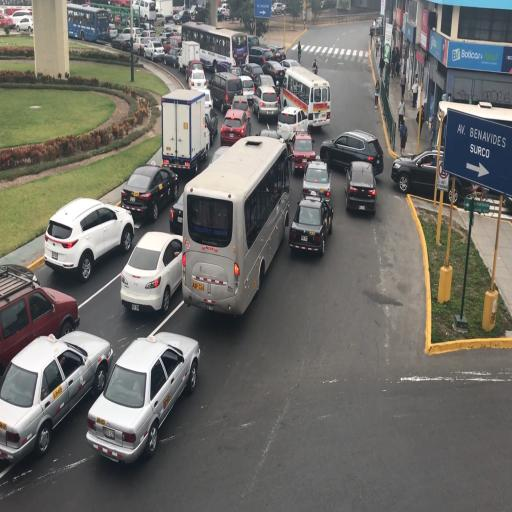auto: (0, 331, 111, 466), (86, 331, 199, 462), (2, 264, 78, 384), (44, 194, 133, 280), (391, 147, 483, 205), (120, 230, 184, 312), (122, 162, 180, 221), (321, 130, 378, 178), (344, 160, 374, 215), (209, 70, 244, 113), (289, 130, 318, 174), (301, 156, 330, 200), (277, 104, 307, 144), (220, 108, 250, 146), (254, 84, 280, 122), (261, 60, 286, 88), (114, 26, 142, 50), (242, 62, 266, 88), (248, 44, 272, 67), (142, 40, 166, 62), (276, 121, 291, 149), (163, 46, 182, 68), (162, 32, 181, 54), (197, 88, 213, 114), (139, 29, 158, 48), (267, 45, 286, 63), (173, 7, 191, 25), (16, 15, 34, 33), (280, 59, 298, 76), (271, 2, 283, 15), (221, 6, 231, 20)
bus: (183, 134, 287, 310), (281, 65, 329, 130), (184, 22, 238, 76), (68, 4, 109, 44), (132, 0, 157, 23)
camion: (160, 88, 210, 182), (178, 40, 201, 78), (156, 0, 174, 24)
moto: (313, 56, 320, 73)
